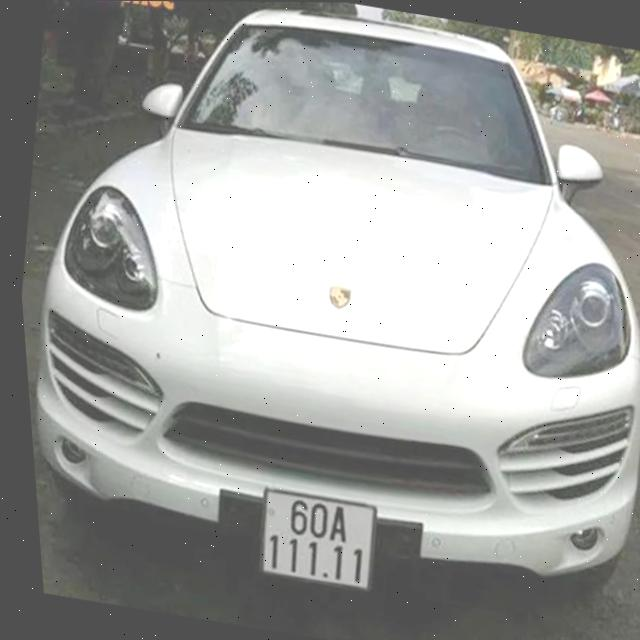car: (0, 0, 640, 640)
plate: (242, 480, 395, 598)
